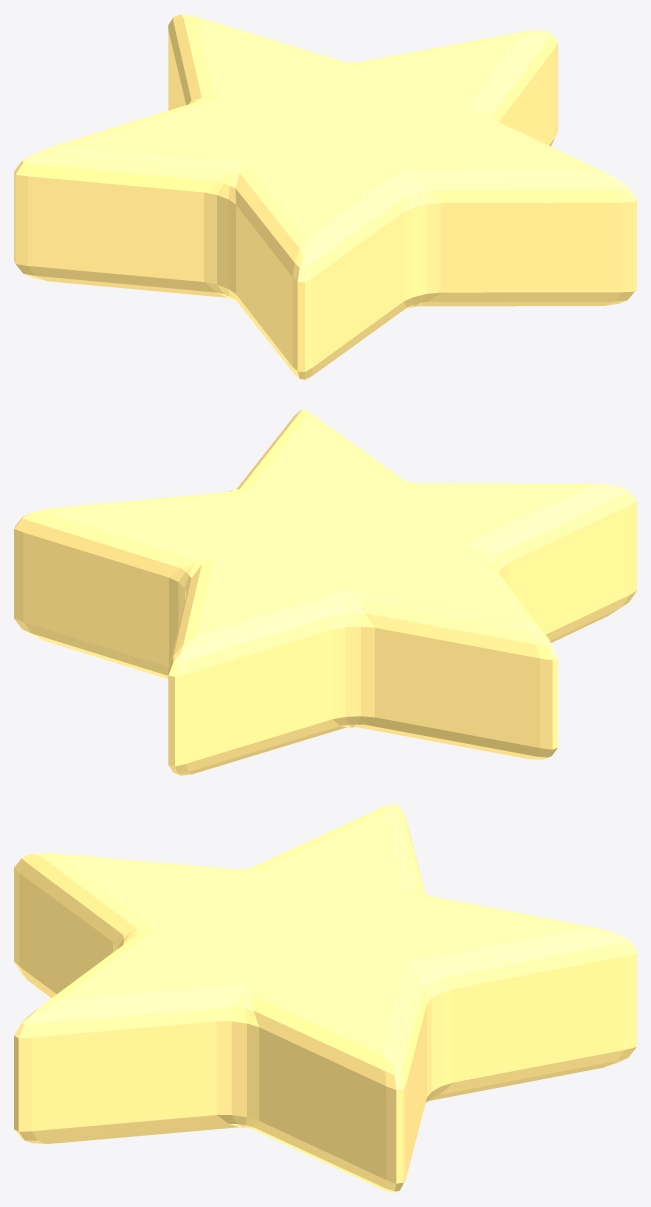
The model's file is SM_UI_Star.fbx.
3 renders of one model, top to bottom at view 1: azimuth 30°, elevation 25°; view 2: azimuth 150°, elevation 25°; view 3: azimuth 270°, elevation 25°, orthographic. The views are drawn at different scales.
Visible parts, largest first — view 1: SM_UI_Star; view 2: SM_UI_Star; view 3: SM_UI_Star.
Boxes of the visible parts, x1,y1,x2,y2 form: SM_UI_Star: (14,14,636,380); SM_UI_Star: (14,409,636,775); SM_UI_Star: (14,804,636,1192).
Size of the model in its own units: 1.01 by 0.24 by 0.9648.
